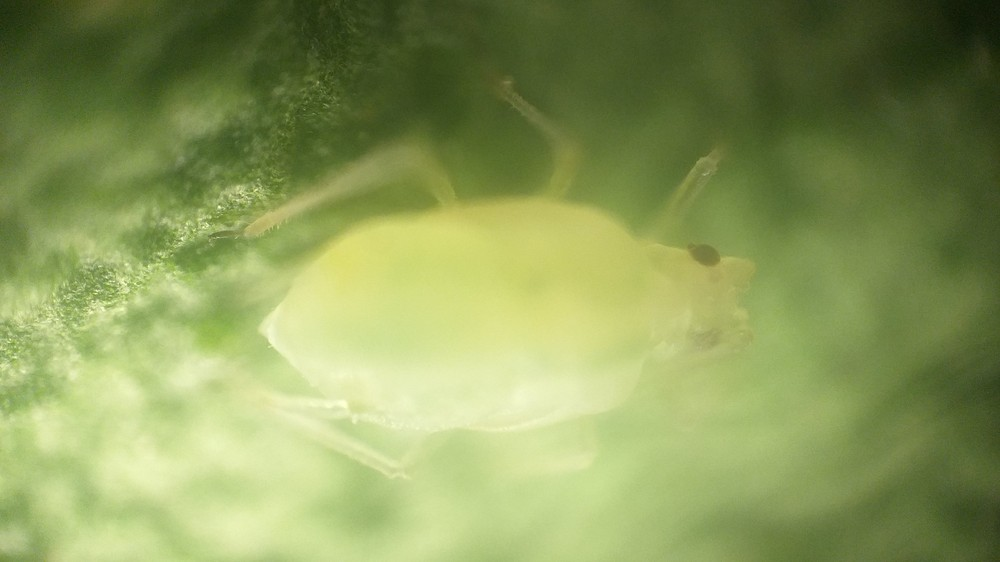Pulgon: (219, 81, 811, 515)
